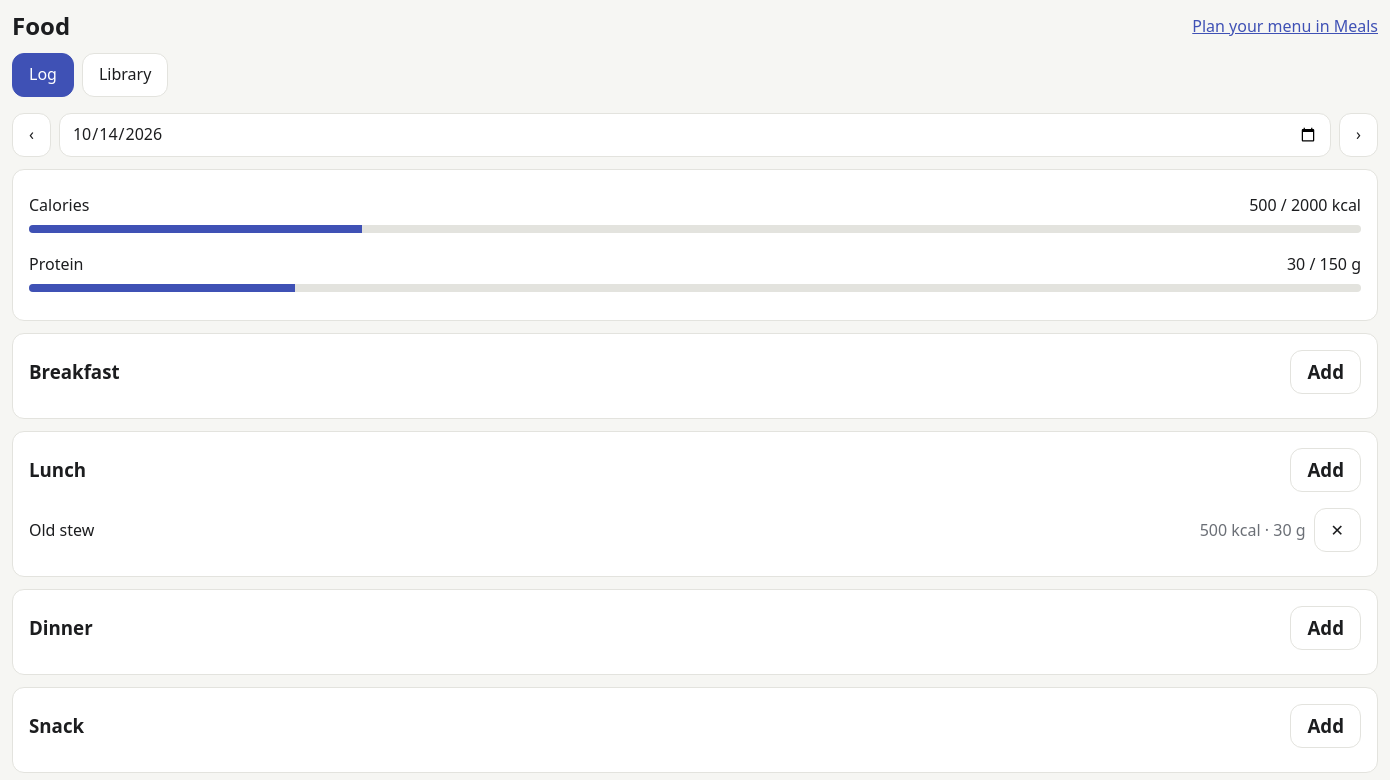
saved-meal log rows show the meal name (including archived) and failed delete toasts
Expected: the text "Old stew" is shown, top-left (29, 519), bottom-right (94, 542)
Click the button named "Delete log l1".
click(1337, 530)  # box top-left (1314, 508), bottom-right (1361, 552)
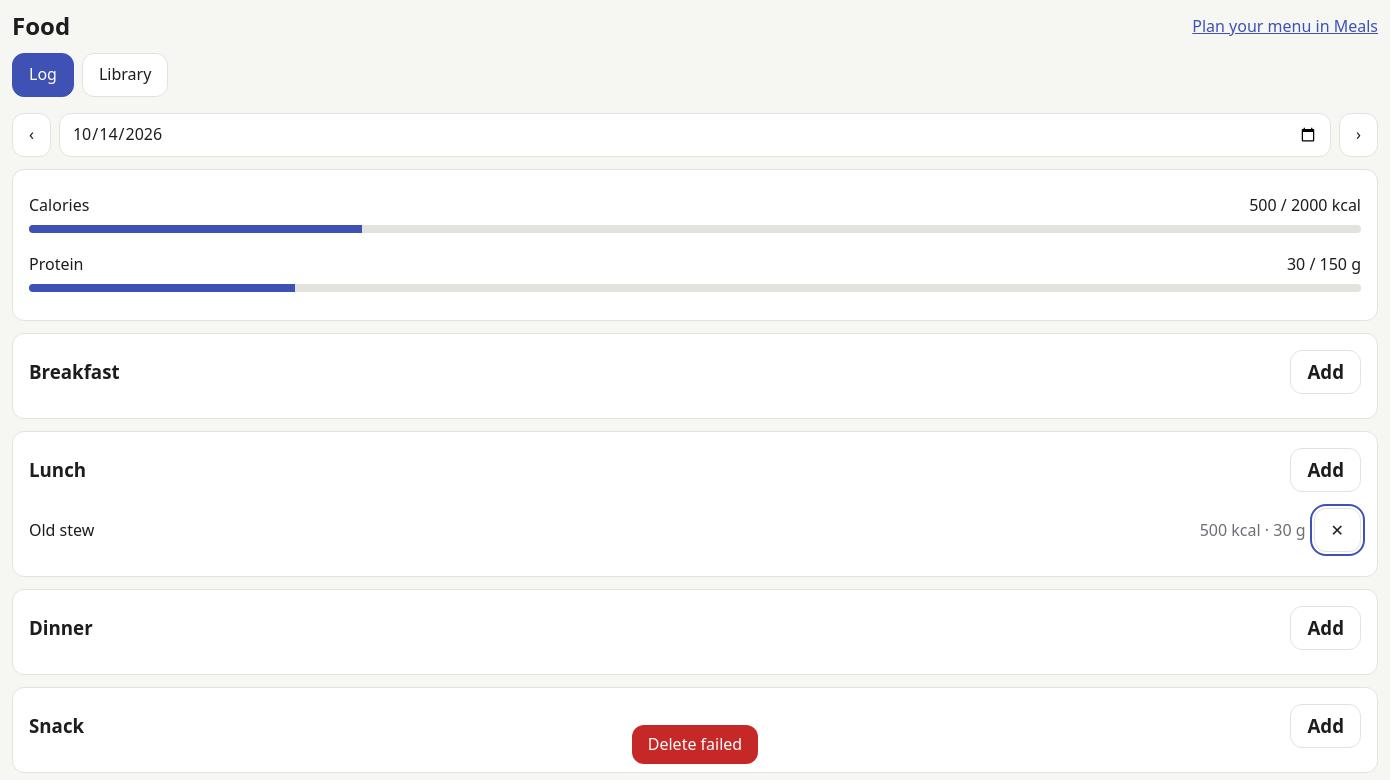
Expected: the text "Delete failed" is shown, top-left (632, 725), bottom-right (758, 764)
